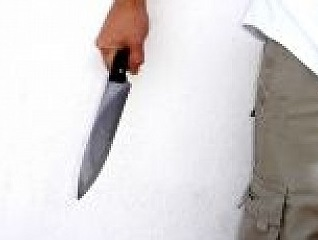knife: (70, 34, 149, 213)
